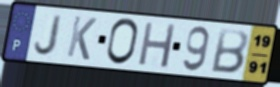9: (181, 24, 211, 72)
B: (208, 27, 250, 76)
H: (136, 20, 178, 70)
J: (32, 13, 65, 57)
K: (64, 14, 99, 63)
O: (105, 16, 141, 67)
